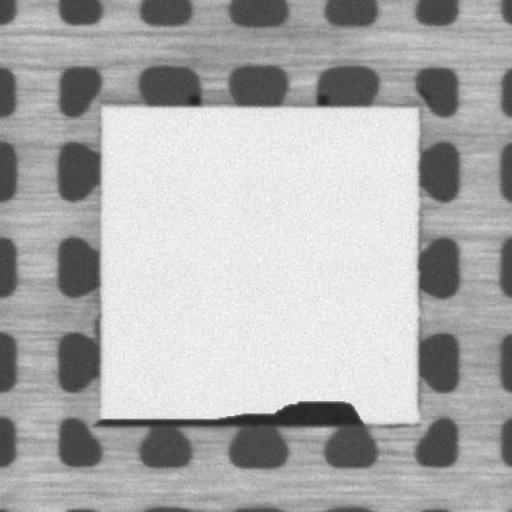DIE_BROKEN: (96, 392, 369, 427)
